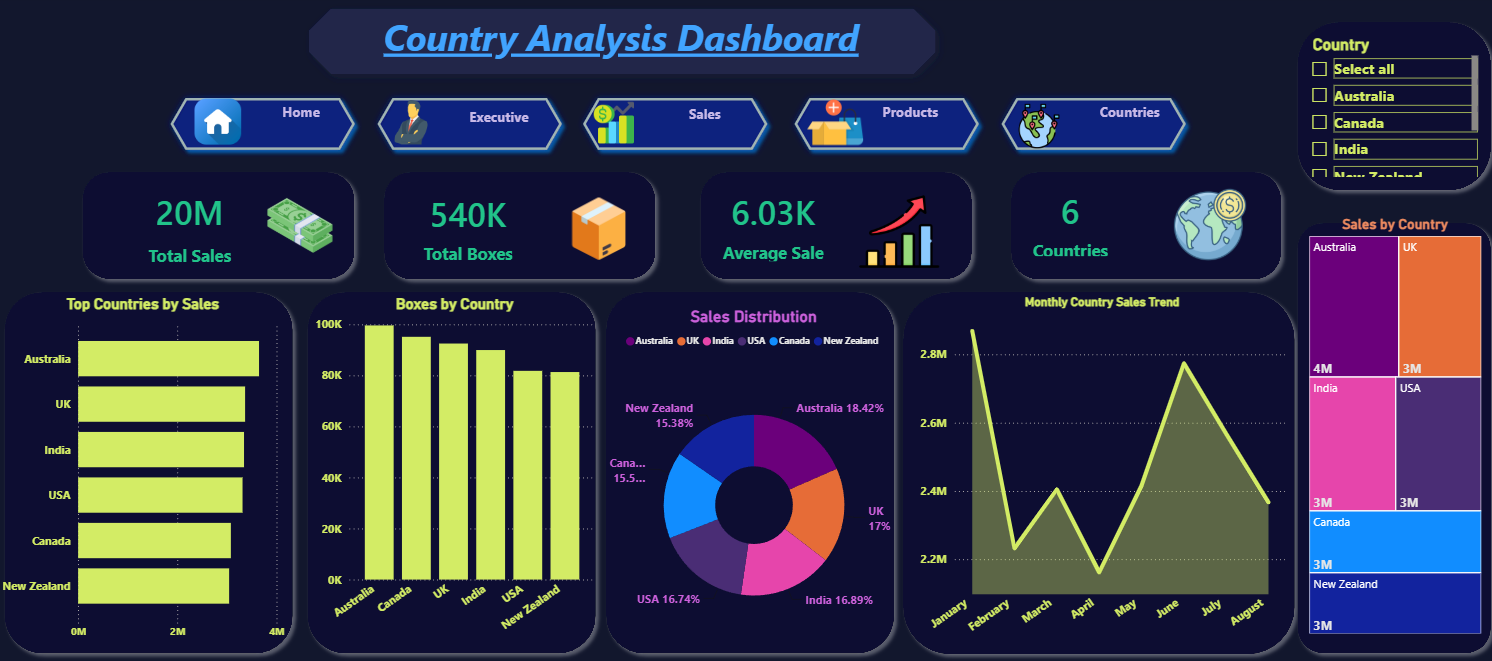

This screenshot's page, from the dashboard's own definition file:
{"tool":"powerbi","page":{"name":"Country Analysis Dashboard","canvas":[1800,800],"ordinal":4},"visuals":[{"type":"shape","box":[0,0,2298,1402],"z":0},{"type":"shape","box":[94.1,203.2,344.3,146.8],"z":1000},{"type":"actionButton","box":[447.7,116,238,79],"z":2000},{"type":"shape","box":[357.5,0,783.8,111],"z":3000},{"type":"shape","box":[454.7,204,343.6,147],"z":4000},{"type":"textbox","box":[519.6,128.8,168.8,53.3],"z":5000},{"type":"textbox","box":[421.9,15.5,655,111],"z":6000},{"type":"actionButton","box":[693.9,116,238,79],"z":7000},{"type":"shape","box":[834.5,204,343.6,147],"z":8000},{"type":"shape","box":[1207.7,204,342.2,147],"z":9000},{"type":"image","box":[448.5,126.6,97.7,53.3],"z":10000},{"type":"cardVisual","fields":{"Data":["Table1.Total Sales"]},"box":[111,215.9,239.1,126.7],"z":11000},{"type":"actionButton","box":[947.8,116,238,79],"z":12000},{"type":"image","box":[303.9,236.2,118.6,81.1],"z":13000},{"type":"shape","box":[0,348,364,452],"z":14000},{"type":"actionButton","box":[1195.7,116,238,79],"z":15000},{"type":"cardVisual","fields":{"Data":["Table1.Total Boxes"]},"box":[415.2,215.4,299.8,126.6],"z":16000},{"type":"actionButton","box":[199.8,116,238,79],"z":17000},{"type":"image","box":[699.4,124.3,79.9,57.7],"z":18000},{"type":"image","box":[675.7,242.9,90.4,74.4],"z":19000},{"type":"cardVisual","fields":{"Data":["Table1.Average Sale"]},"box":[779.4,217.6,304.2,119.9],"z":20000},{"type":"textbox","box":[290.9,124.3,146.5,60],"z":21000},{"type":"image","box":[983.5,236.2,196.1,96.3],"z":22000},{"type":"cardVisual","fields":{"Data":["Table1.Countries"]},"box":[1134.6,219.8,304.2,111],"z":23000},{"type":"image","box":[224.3,124.3,79.9,55.5],"z":24000},{"type":"image","box":[1407.4,231.4,96,86.6],"z":25000},{"type":"shape","box":[364,348,364,452],"z":26000},{"type":"shape","box":[722,348,364,452],"z":27000},{"type":"shape","box":[1077.7,347.5,488.1,452.9],"z":28000},{"type":"textbox","box":[763.8,126.6,173.2,42.2],"z":29000},{"type":"shape","box":[1550.4,265.3,250.2,534.4],"z":30000},{"type":"textbox","box":[1025.8,124.3,144.3,57.7],"z":31000},{"type":"barChart","title":"Top Countries by Sales","fields":{"Y":["Table1.Total Sales"],"Category":["Table1.Country"]},"box":[0,360,350,422],"z":32000},{"type":"clusteredColumnChart","title":"Boxes by Country","fields":{"Y":["Table1.Total Boxes"],"Category":["Table1.Country"]},"box":[376,360,346,422],"z":33000},{"type":"donutChart","title":"Sales Distribution","fields":{"Y":["Table1.Total Sales"],"Category":["Table1.Country"]},"box":[728,374,358,426],"z":34000},{"type":"image","box":[970.3,117.7,71.1,71.1],"z":35000},{"type":"lineChart","title":"Monthly Country Sales Trend","fields":{"Y":["Table1.Total Sales"],"Category":["Calendar.Month Name"]},"box":[1101.1,359.2,449,423.6],"z":36000},{"type":"treemap","title":"Sales by Country","fields":{"Group":["Table1.Country"],"Values":["Table1.Total Sales"]},"box":[1568.8,265.1,216.1,506.6],"z":37000},{"type":"textbox","box":[1285.6,124.3,144.3,57.7],"z":38000},{"type":"shape","box":[1550.4,22.6,250.2,220.1],"z":39000},{"type":"slicer","fields":{"Values":["Table1.Country"]},"box":[1565.5,43.3,216.4,178.7],"z":40000},{"type":"image","box":[1210.1,128.8,77.7,55.5],"z":41000}]}

Visuals, with their boxes in screenshot pixels (x1, y1, x2, y2), scaled from the page's 1800x800 canvas onto the 1492x661 screenshot:
shape: select_region(0, 0, 1491, 660)
shape: select_region(78, 168, 363, 289)
actionButton: select_region(371, 96, 568, 161)
shape: select_region(296, 0, 946, 92)
shape: select_region(377, 169, 662, 290)
textbox: select_region(431, 106, 571, 150)
textbox: select_region(350, 13, 893, 105)
actionButton: select_region(575, 96, 772, 161)
shape: select_region(692, 169, 977, 290)
shape: select_region(1001, 169, 1285, 290)
image: select_region(372, 105, 453, 149)
cardVisual - Table1.Total Sales: select_region(92, 178, 290, 283)
actionButton: select_region(786, 96, 983, 161)
image: select_region(252, 195, 350, 262)
shape: select_region(0, 288, 302, 660)
actionButton: select_region(991, 96, 1188, 161)
cardVisual - Table1.Total Boxes: select_region(344, 178, 593, 283)
actionButton: select_region(166, 96, 363, 161)
image: select_region(580, 103, 646, 150)
image: select_region(560, 201, 635, 262)
cardVisual - Table1.Average Sale: select_region(646, 180, 898, 279)
textbox: select_region(241, 103, 363, 152)
image: select_region(815, 195, 978, 275)
cardVisual - Table1.Countries: select_region(940, 182, 1193, 273)
image: select_region(186, 103, 252, 149)
image: select_region(1167, 191, 1246, 263)
shape: select_region(302, 288, 603, 660)
shape: select_region(598, 288, 900, 660)
shape: select_region(893, 287, 1298, 660)
textbox: select_region(633, 105, 777, 139)
shape: select_region(1285, 219, 1491, 660)
textbox: select_region(850, 103, 970, 150)
"Top Countries by Sales" barChart: select_region(0, 297, 290, 646)
"Boxes by Country" clusteredColumnChart: select_region(312, 297, 598, 646)
"Sales Distribution" donutChart: select_region(603, 309, 900, 660)
image: select_region(804, 97, 863, 156)
"Monthly Country Sales Trend" lineChart: select_region(913, 297, 1285, 647)
"Sales by Country" treemap: select_region(1300, 219, 1479, 638)
textbox: select_region(1066, 103, 1185, 150)
shape: select_region(1285, 19, 1491, 201)
slicer - Table1.Country: select_region(1298, 36, 1477, 183)
image: select_region(1003, 106, 1067, 152)
